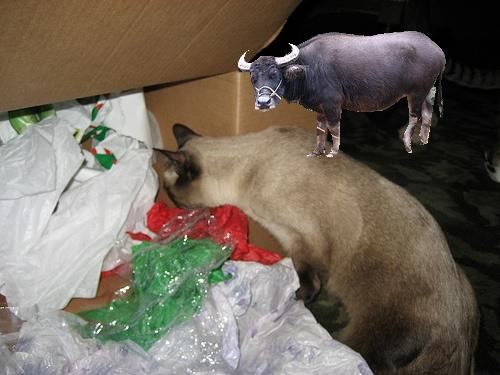tampered: (239, 32, 446, 157)
